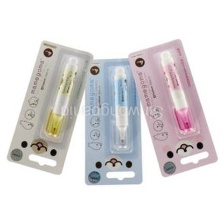book: (126, 36, 219, 179), (5, 38, 96, 176), (82, 55, 144, 188)
correction_fluid: (159, 49, 198, 135), (43, 54, 82, 138), (110, 65, 133, 150)
